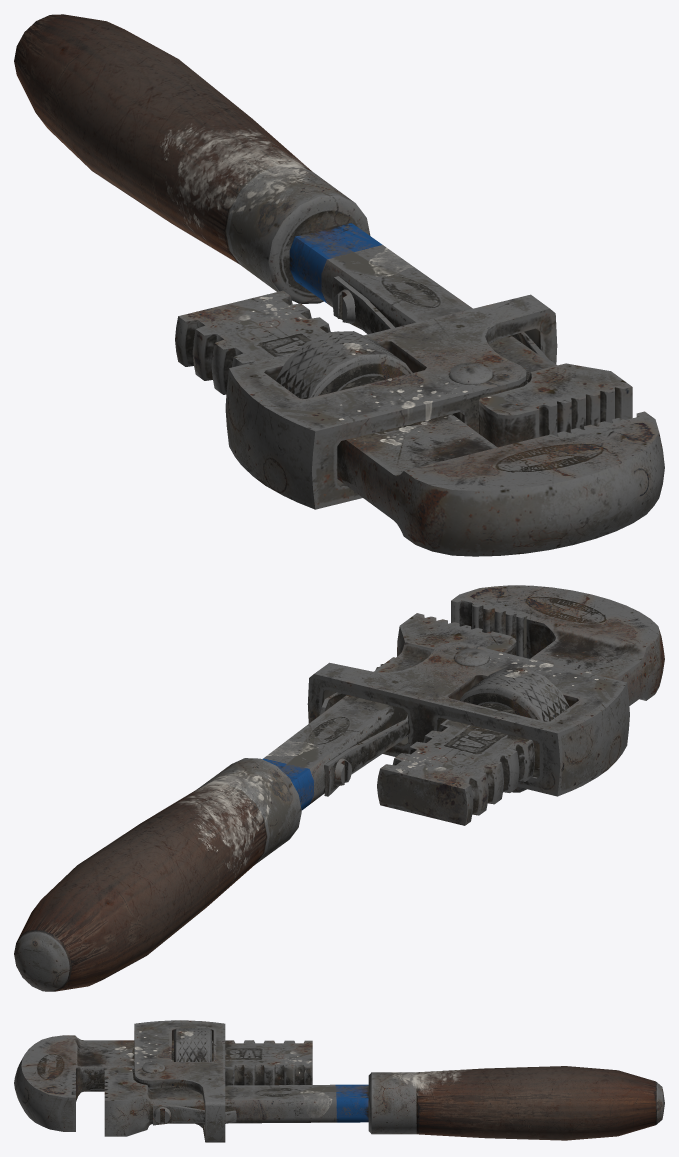
The model's file is wrench.glb.
3 views of the same model, one above another, from view 1: azimuth 30°, elevation 25°; view 2: azimuth 150°, elevation 25°; view 3: azimuth 270°, elevation 25° (orthographic). The views are drawn at different scales.
Parts seen in each view (by area): view 1: grp_4lo, grp3_lo, grp2_lo, grp1_lo; view 2: grp_4lo, grp3_lo, grp2_lo, grp1_lo; view 3: grp_4lo, grp2_lo, grp3_lo, grp1_lo.
Part boxes in pixels (x1,y1,x2,y2): grp_4lo: (14,14,664,556); grp3_lo: (225,294,557,509); grp2_lo: (289,222,632,447); grp1_lo: (275,276,557,398); grp_4lo: (14,585,664,991); grp3_lo: (307,642,629,796); grp2_lo: (262,613,516,810); grp1_lo: (320,657,569,796); grp_4lo: (14,1035,664,1140); grp2_lo: (104,1067,368,1136); grp3_lo: (134,1020,225,1142); grp1_lo: (153,1028,236,1125).
Bounding box in the file's own units: 10.13 × 3.89 × 33.23.
Materials: 1 (1 with a texture image).
